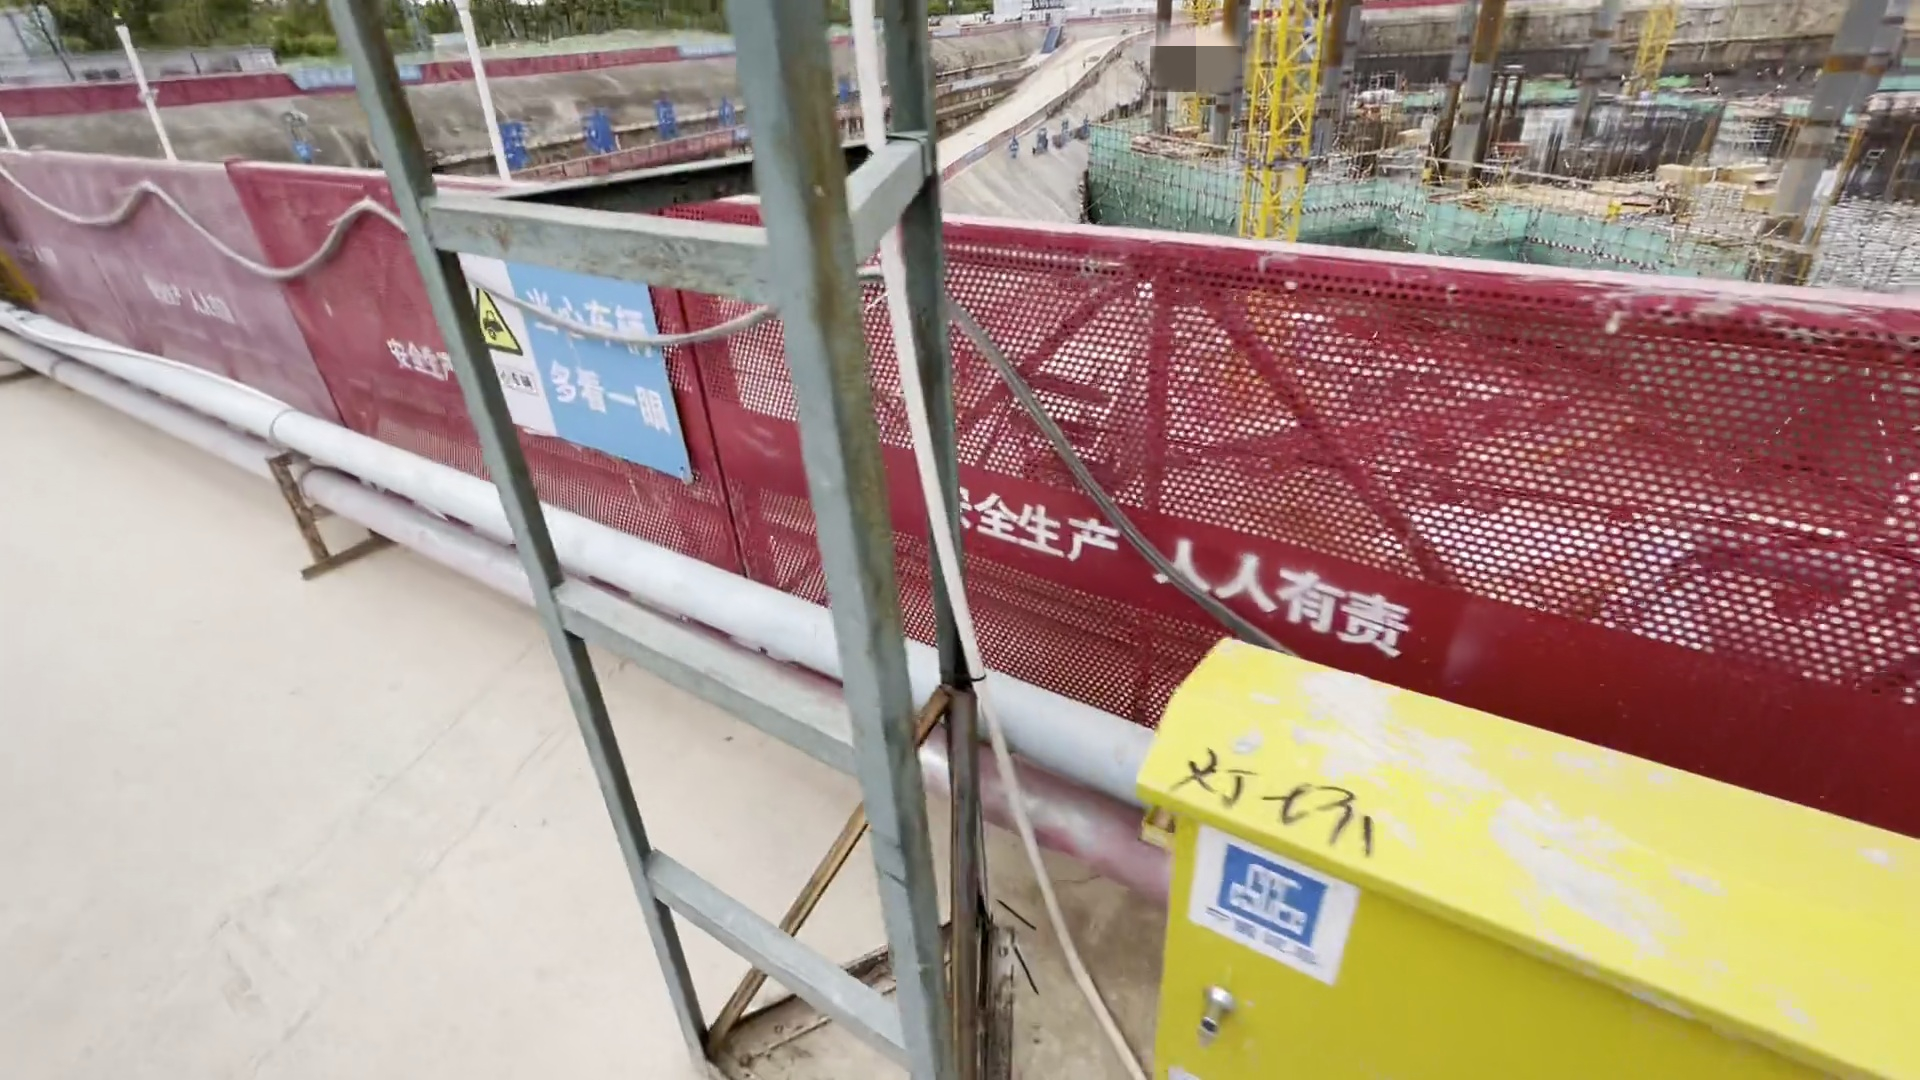board: (1644, 158, 1727, 195)
ebox: (1131, 615, 1920, 1079)
fence: (3, 141, 1920, 847), (3, 66, 357, 116)
slogan: (407, 231, 731, 520), (287, 54, 434, 100)
